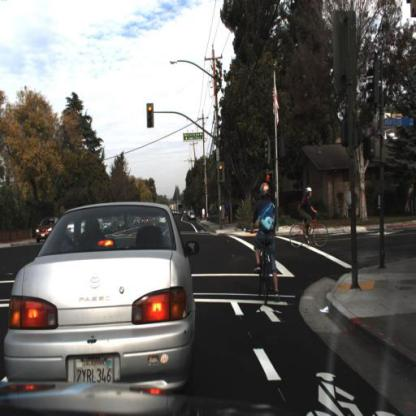biker: (238, 168, 282, 317), (284, 179, 332, 252), (290, 186, 330, 252)
car: (1, 194, 197, 401), (34, 215, 58, 245)
pedestrian: (219, 192, 233, 234), (200, 202, 207, 223)
trafficLight-Red: (146, 104, 159, 139), (216, 157, 226, 183), (148, 101, 156, 130)
